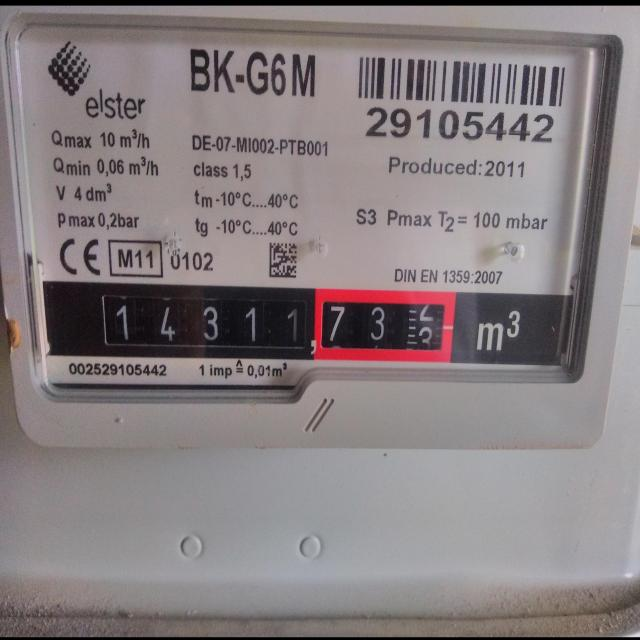gaz_meter: (16, 25, 588, 387)
indication: (102, 294, 454, 356)
